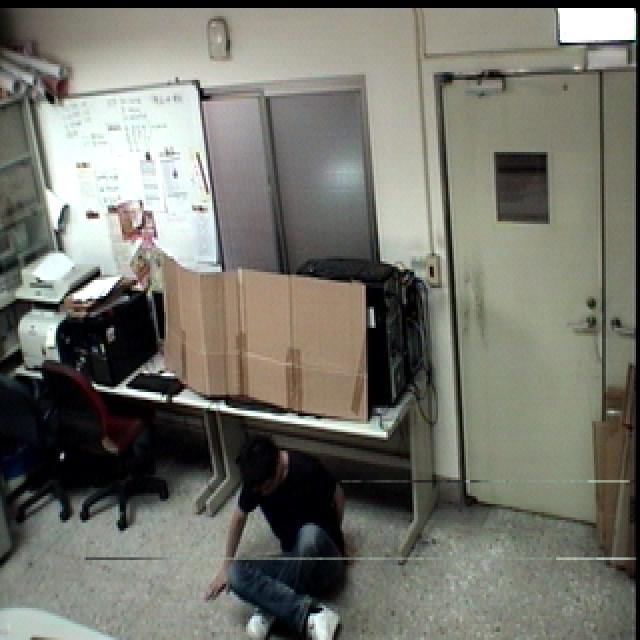sit: (199, 428, 362, 640)
